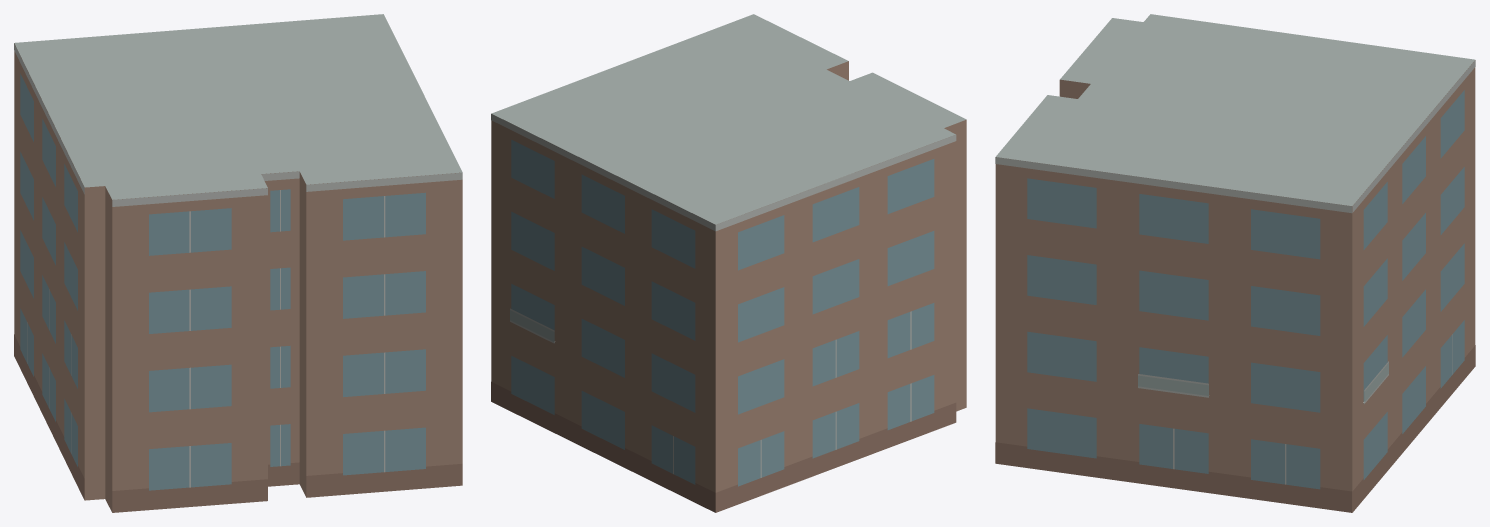
Rendered from survey-upis-32817999.glb.
3 renders of one model, left to right at view 1: azimuth 30°, elevation 25°; view 2: azimuth 150°, elevation 25°; view 3: azimuth 270°, elevation 25°, orthographic. The views are drawn at different scales.
Parts seen in each view (by area): view 1: survey-upis-32817999.tmp; view 2: survey-upis-32817999.tmp; view 3: survey-upis-32817999.tmp.
Part boxes in pixels (x1=…): survey-upis-32817999.tmp: x1=14, y1=14, x2=462, y2=512; survey-upis-32817999.tmp: x1=491, y1=14, x2=966, y2=512; survey-upis-32817999.tmp: x1=995, y1=14, x2=1475, y2=512.
Bounding box in the file's own units: 14.26 × 10.6 × 15.05.
